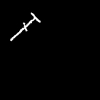double_crochet: (11, 13, 39, 40)
